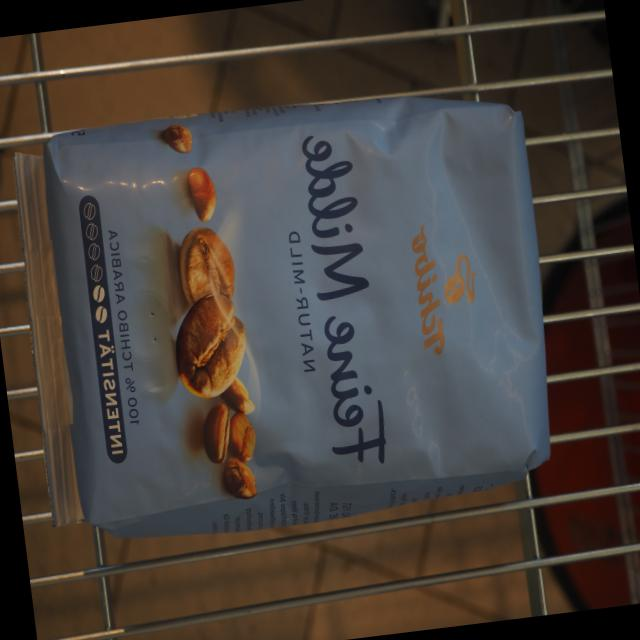FM Bohne: (0, 67, 575, 563)
